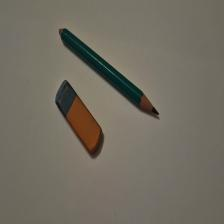eraser: (56, 80, 104, 156)
pencil: (60, 28, 160, 116)
